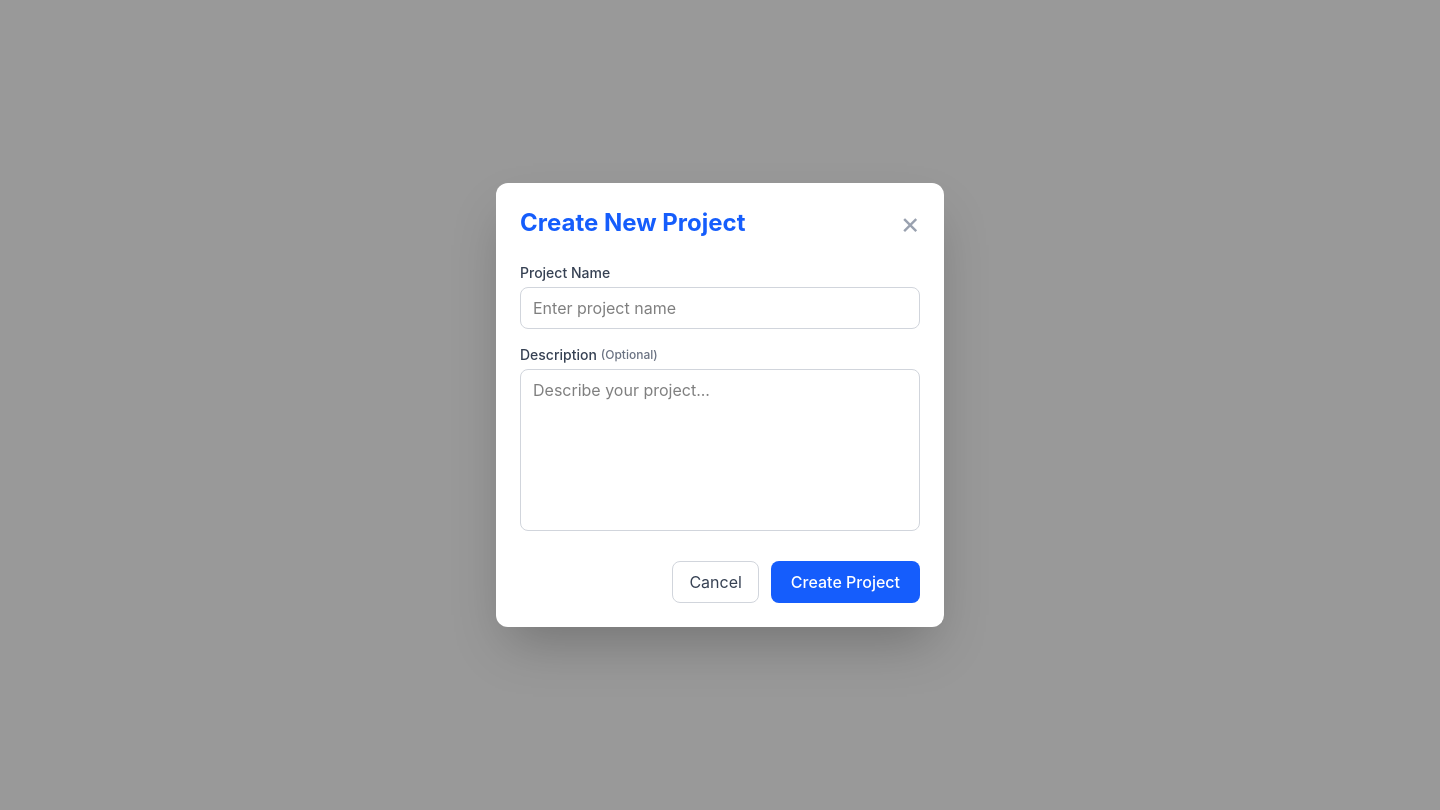
Scenario: ManageProjectCard › validation › should clear the name error when the user starts typing
Click the button "Create Project" at (845, 582), box [771, 561, 920, 603]
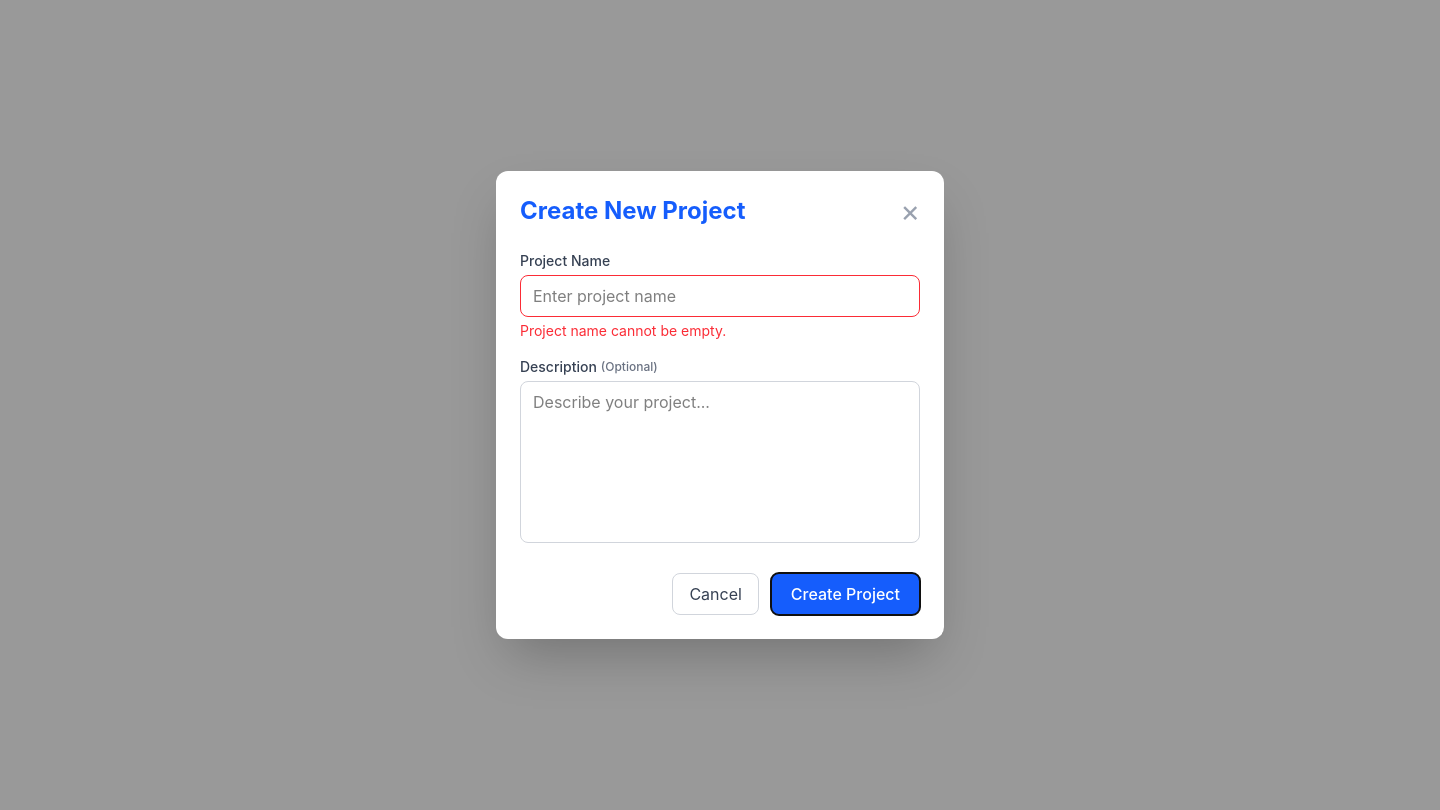
Now the text "Project name cannot be empty." is shown, box [520, 322, 726, 339]
Type "New Project" into the field with placeholder "Enter project name" at (720, 296), box [520, 275, 920, 317]
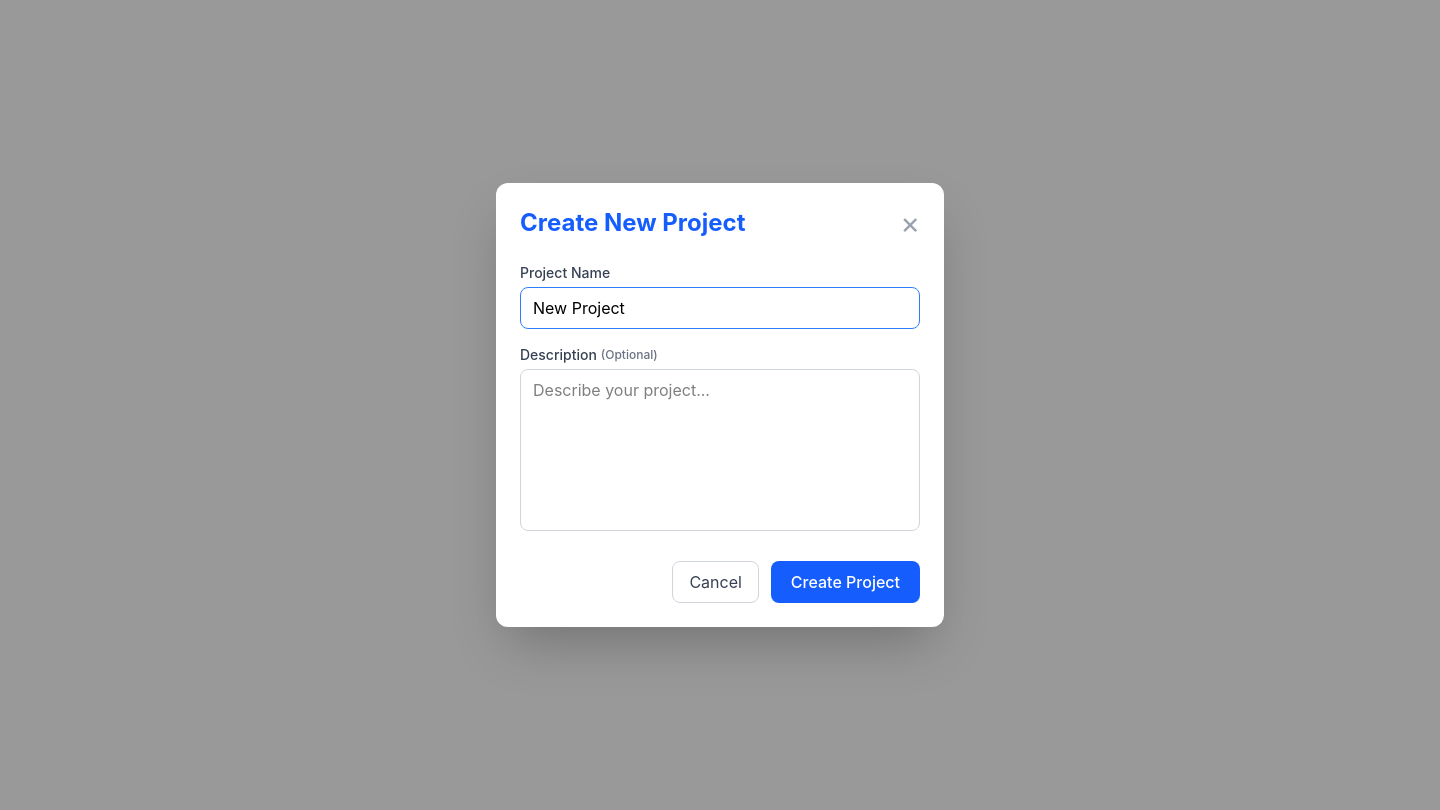
Now the text "Project name cannot be empty." is gone
